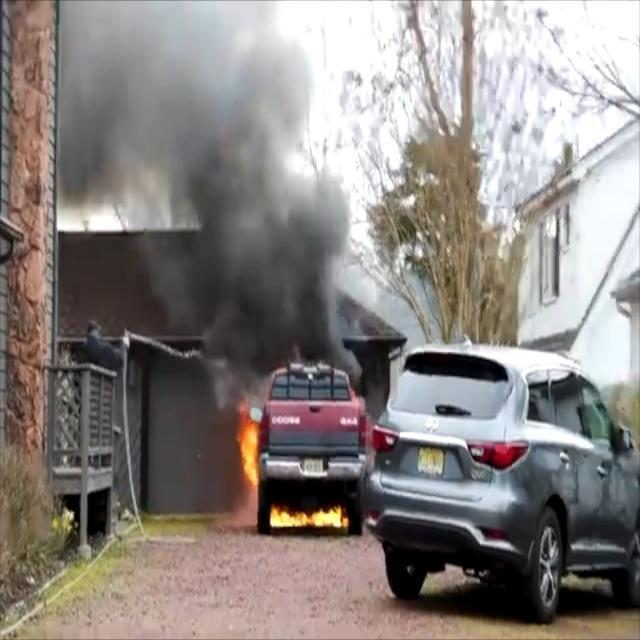fire: (236, 389, 261, 486), (268, 502, 351, 530)
